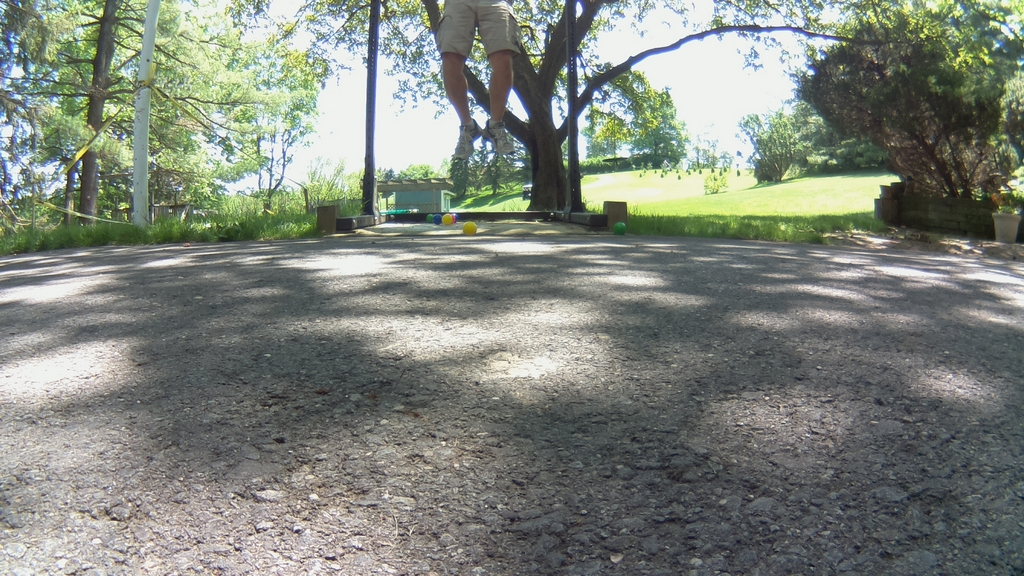ball: (612, 221, 625, 234)
